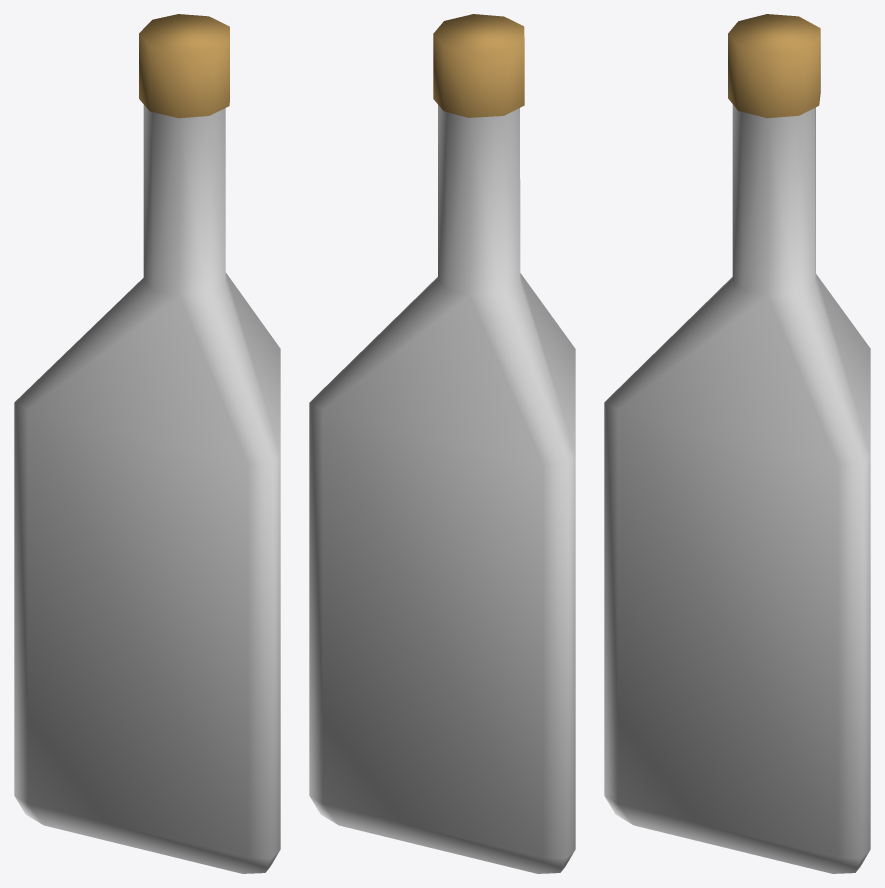
The model's file is Bottle.fbx.
The picture shows the model from 3 angles, left to right: view 1: azimuth 30°, elevation 25°; view 2: azimuth 150°, elevation 25°; view 3: azimuth 270°, elevation 25°; orthographic projection.
Parts seen in each view (by area): view 1: Bottle 01.001; view 2: Bottle 01.001; view 3: Bottle 01.001.
Boxes of the visible parts, box(x1,y1,x2,y2) form: Bottle 01.001: box(14, 14, 280, 873); Bottle 01.001: box(309, 14, 575, 873); Bottle 01.001: box(604, 14, 870, 873).
Bounding box in the file's own units: 0.6689 × 1.98 × 0.6009.
